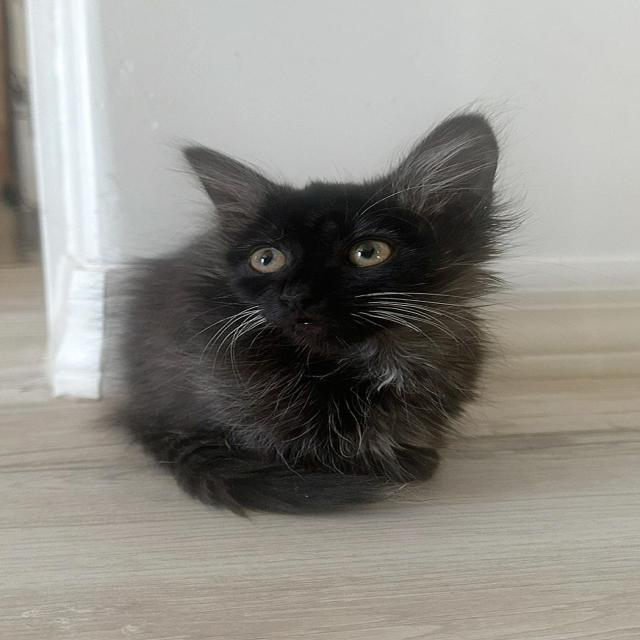domestic_long_hair_cat: (154, 104, 536, 384)
